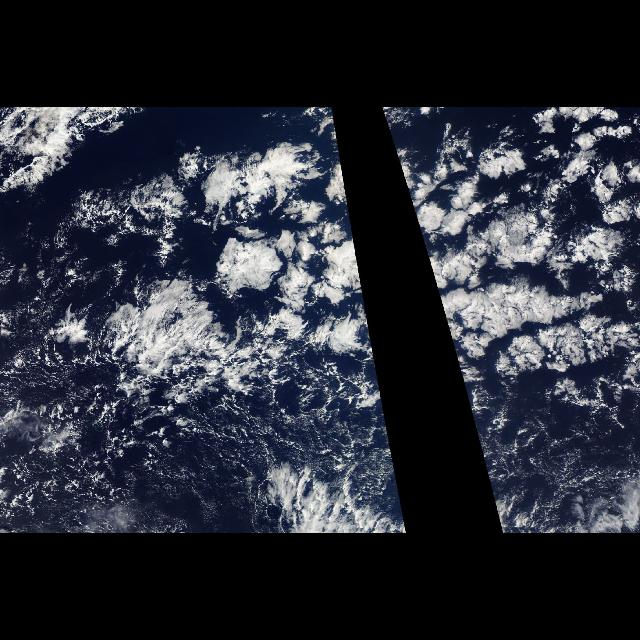Flower: (383, 109, 639, 357), (199, 109, 375, 357)
Gravel: (1, 342, 393, 532), (472, 393, 640, 525)
Sugar: (388, 134, 638, 380), (182, 400, 392, 496), (371, 338, 379, 379)
